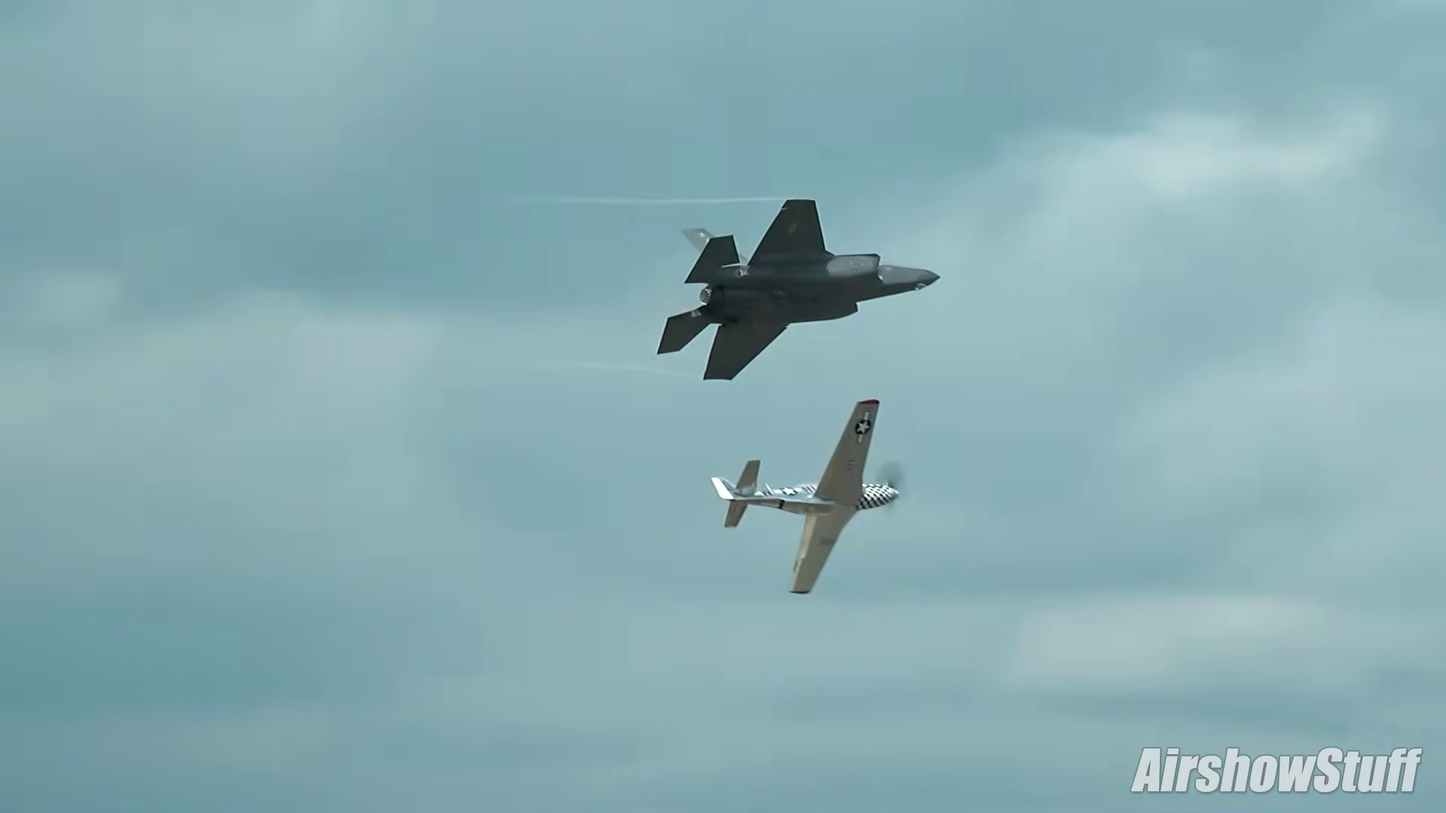F35: (655, 192, 944, 386)
